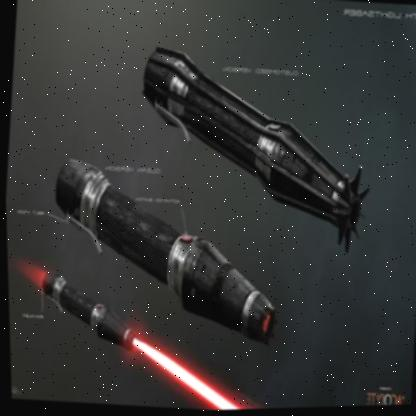sith_lightsaber: (11, 263, 265, 409)
